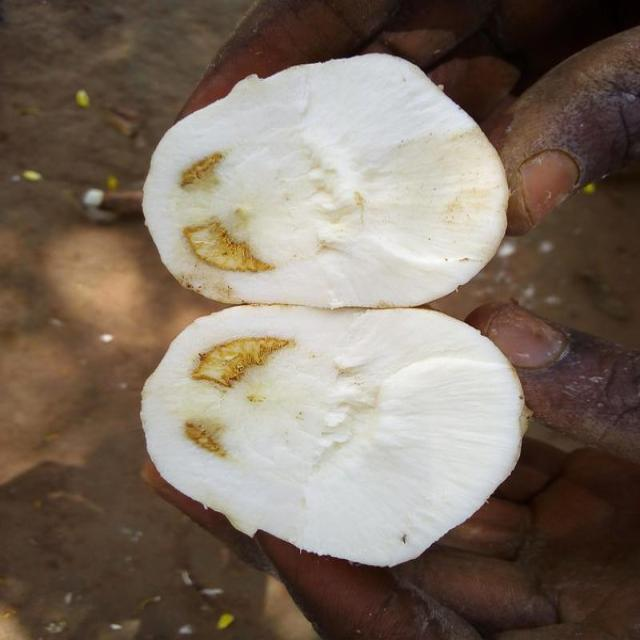cassava leaf: (140, 302, 531, 568), (142, 50, 511, 309)
